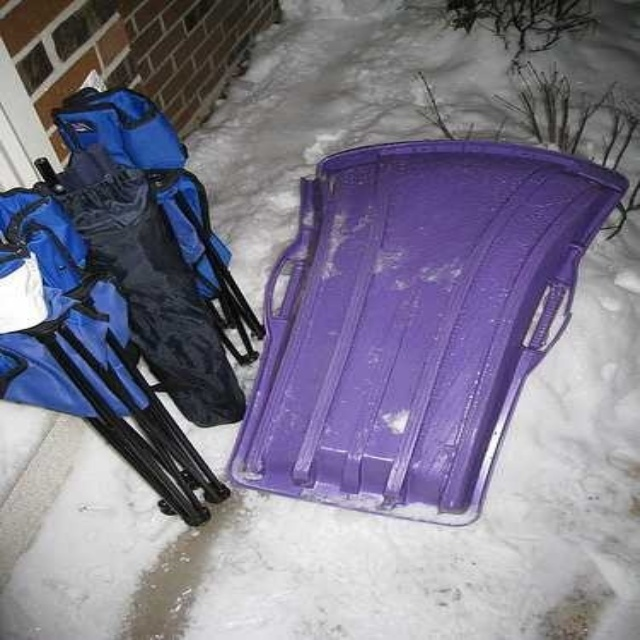obstacle: (229, 141, 626, 524)
